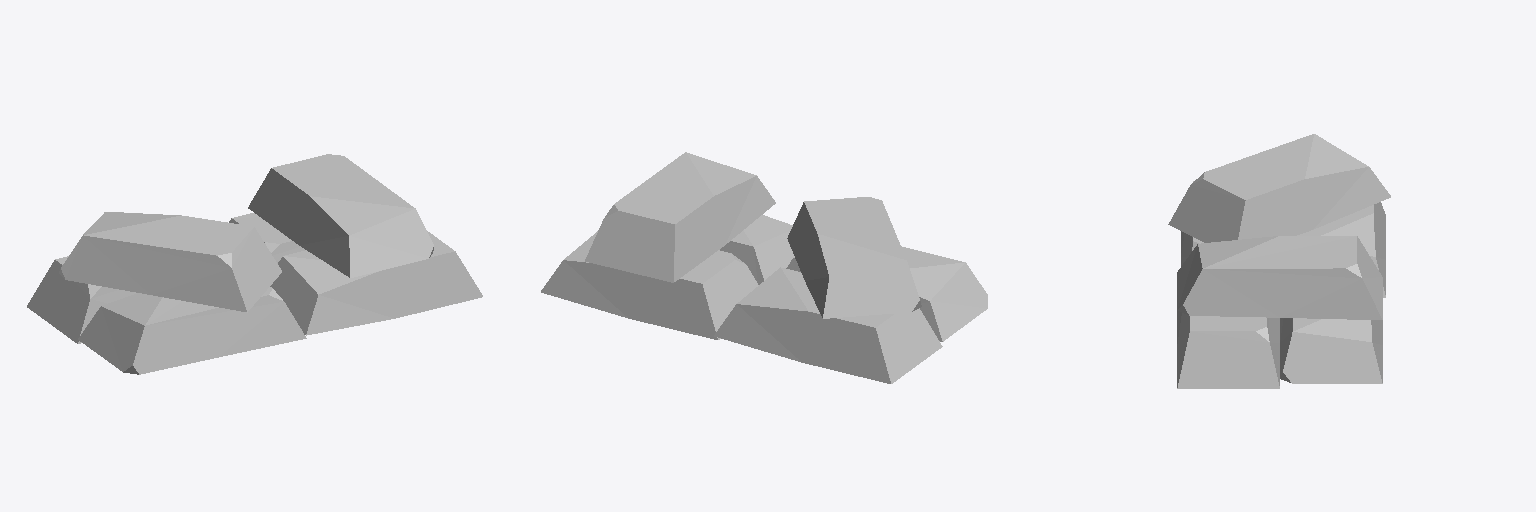
File: Gold-17.obj
The picture shows the model from 3 angles: view 1: azimuth 30°, elevation 25°; view 2: azimuth 150°, elevation 25°; view 3: azimuth 270°, elevation 25°; orthographic projection.
Visible parts, largest first — view 1: Gold_17; view 2: Gold_17; view 3: Gold_17.
Boxes of the visible parts, x1=… form: Gold_17: x1=27, y1=154, x2=482, y2=374; Gold_17: x1=541, y1=152, x2=987, y2=383; Gold_17: x1=1168, y1=134, x2=1390, y2=388.
Bounding box in the file's own units: 0.2975 × 0.075 × 0.1631.